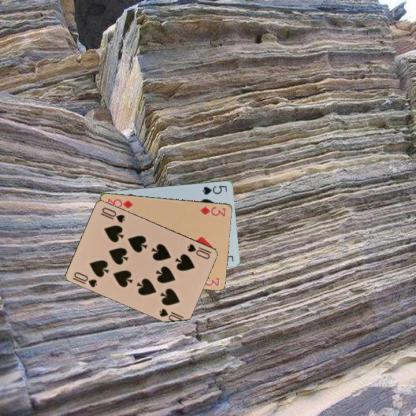10s: (185, 241, 213, 260), (72, 270, 98, 288)
3d: (198, 204, 227, 218)
5s: (200, 182, 228, 196)
